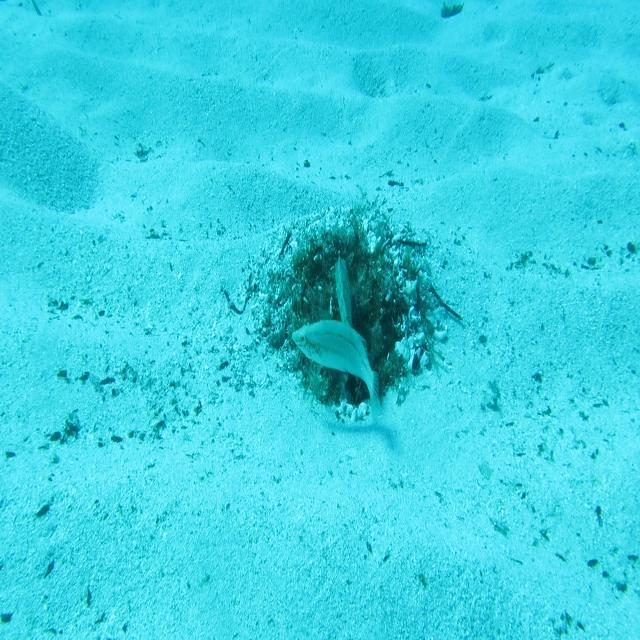FAN: (328, 253, 364, 385)
core_nest: (316, 247, 364, 299)
female: (290, 316, 381, 432)
nest: (242, 196, 456, 432)
vegetation: (439, 0, 464, 20)
